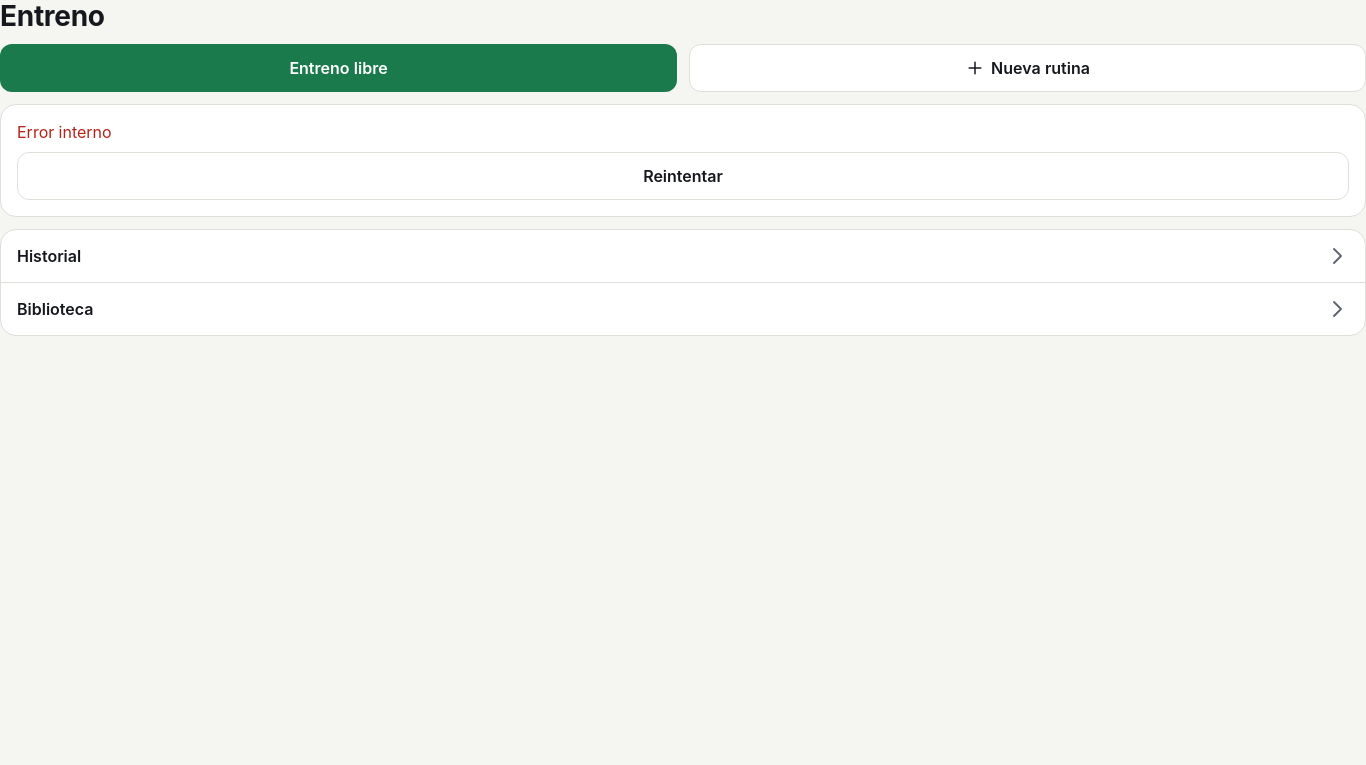
Test: Entreno: estados vacíos y errores › un error de carga sale con Reintentar, y reintentar muestra las rutinas
Expected: the message reads "Error interno", [17, 122, 112, 142]
Click the button "Reintentar" at (683,176), box [17, 152, 1349, 200]
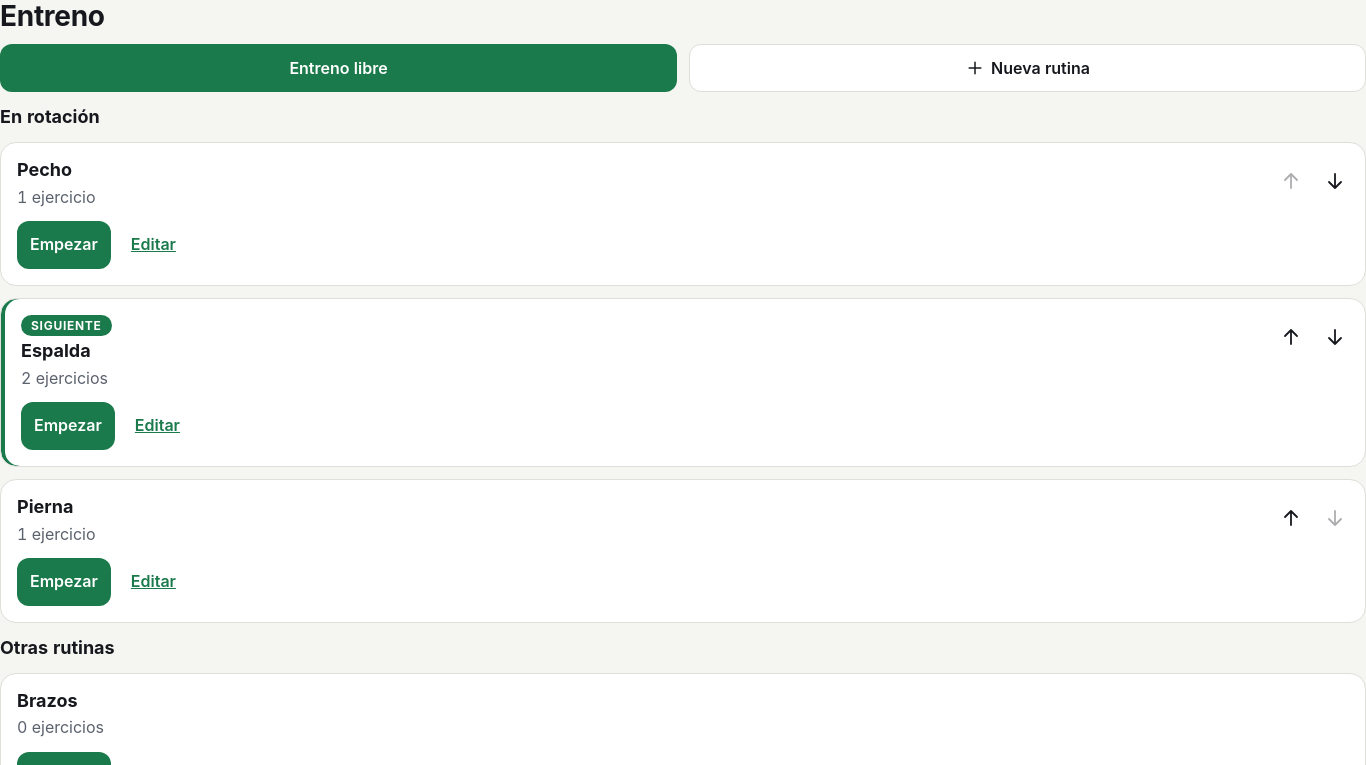
Expected: the heading "Pecho" is shown, [17, 159, 72, 182]
